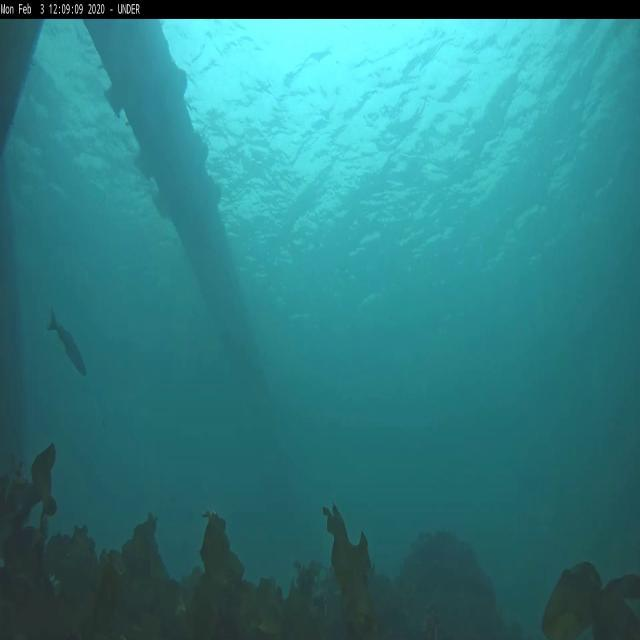fish: (48, 308, 92, 376)
